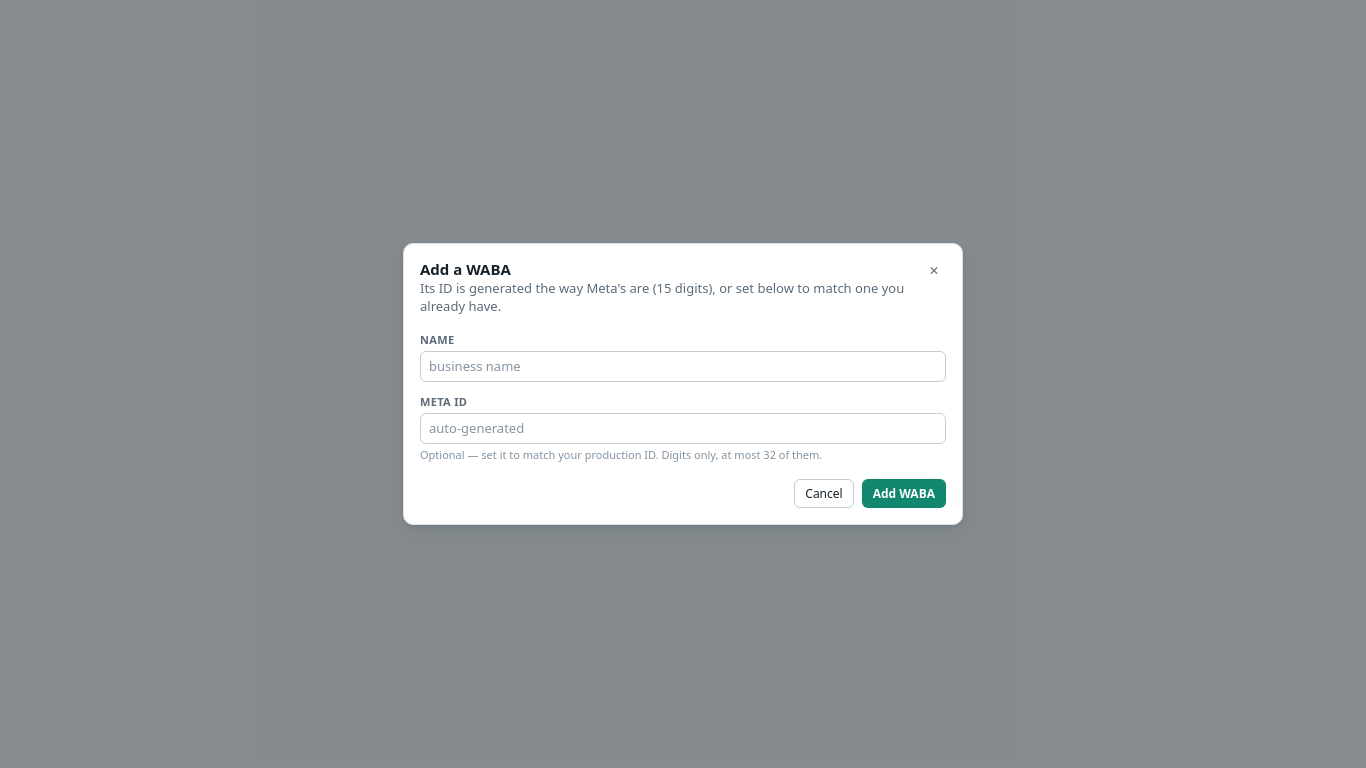
Test: CreateWabaDialog › keeps the dialog open on a collision, showing what the server said
Type "Twin" into the field named "New WABA name" at (683,367), box [420,351,946,382]
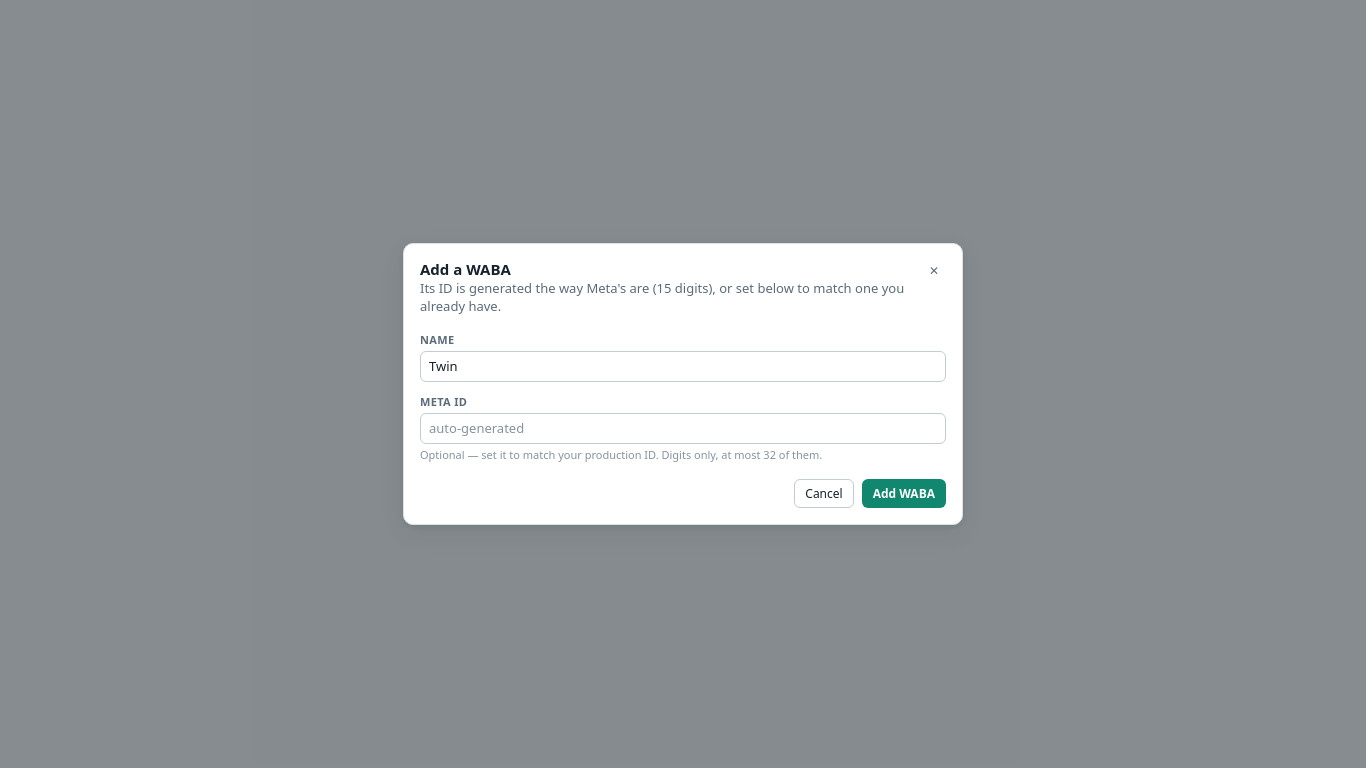
Type "102290129340398" into the field named "New WABA ID" at (683,428), box [420,413,946,444]
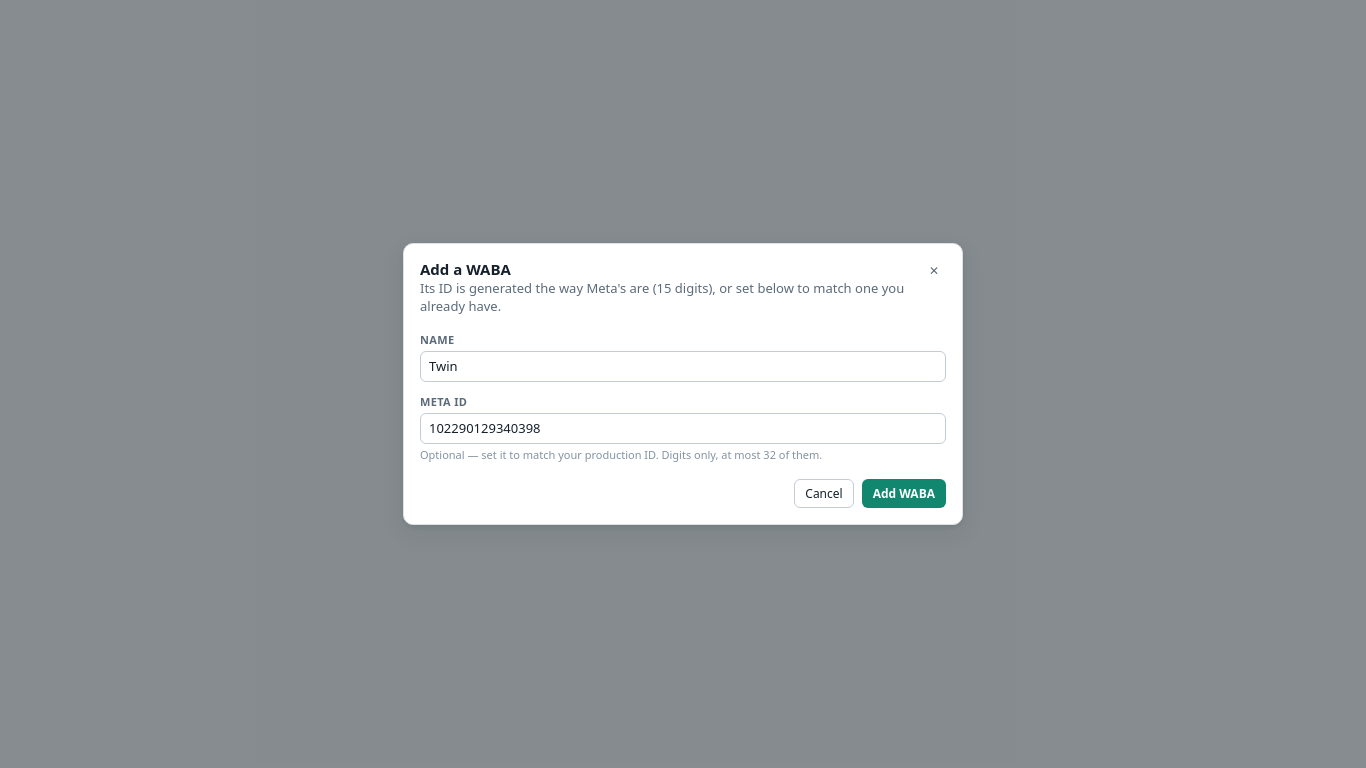
Click the button "Add WABA" at (904,494), box [862,479,946,508]
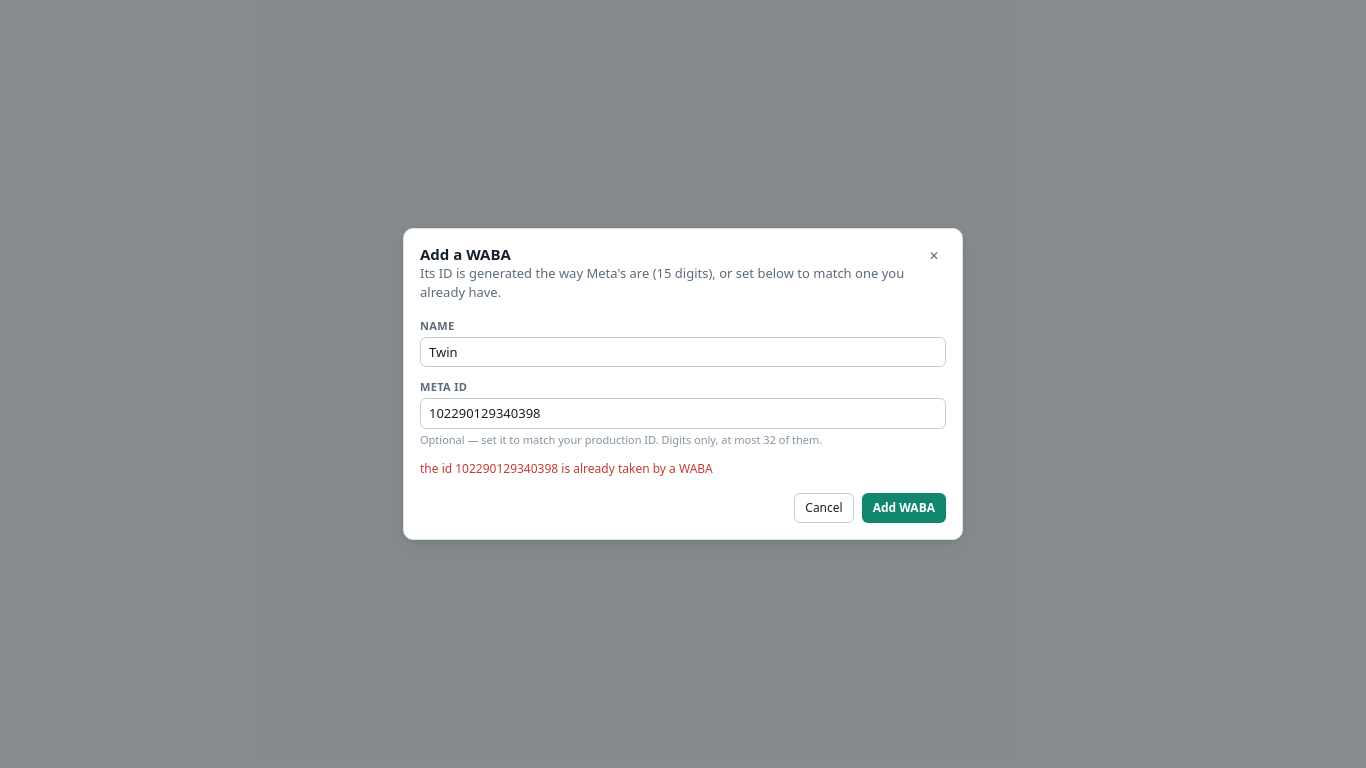
Check: the message reads "the id 102290129340398 is already taken by a WABA", box [420,460,713,477]
